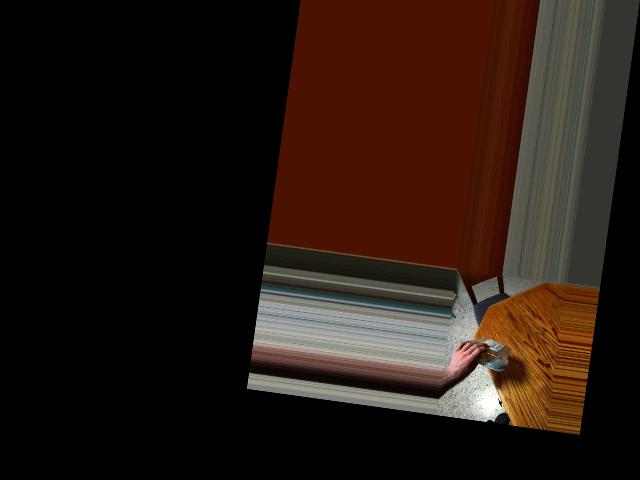cheese: (454, 333, 503, 375)
